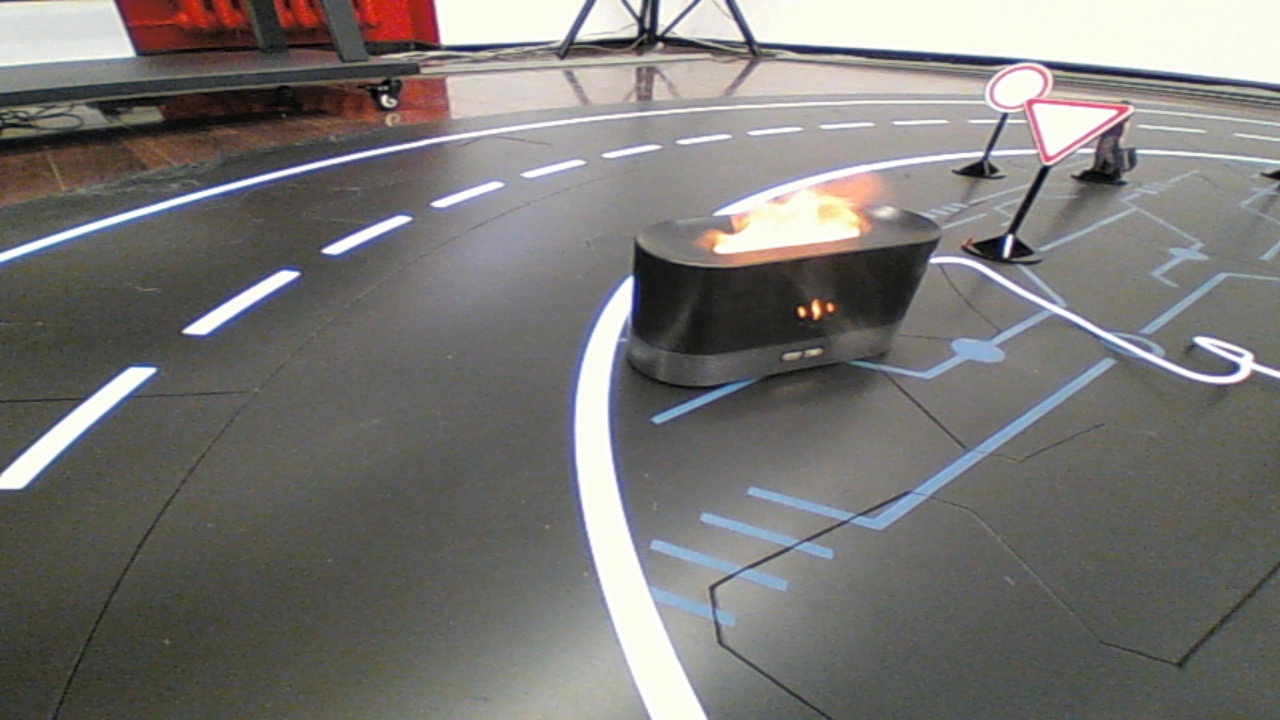Movement prohibition: (591, 179, 970, 400)
